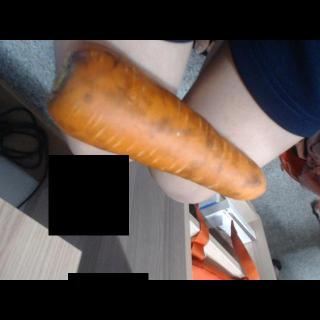carrot: (45, 42, 267, 202)
